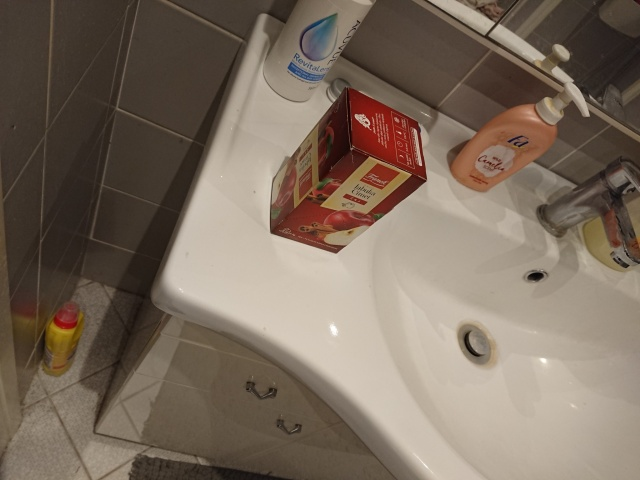Franck Apple Cinnamon Tea 60g: (266, 84, 429, 257)
